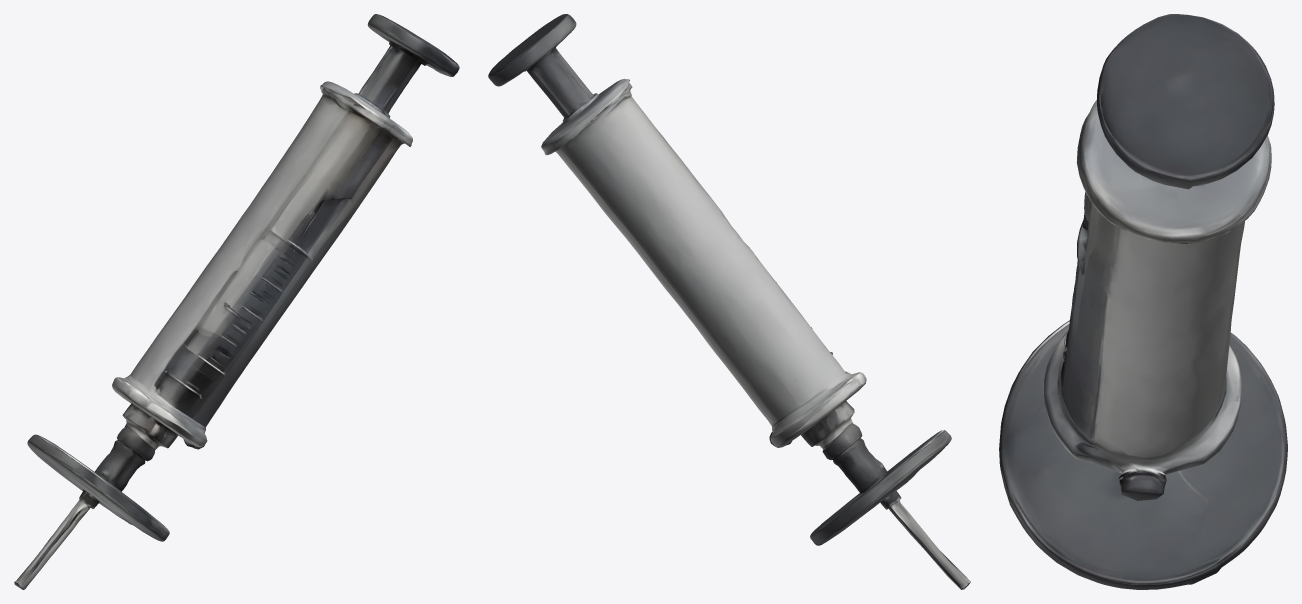
File: syringe.glb
The picture shows the model from 3 angles, left to right: view 1: azimuth 30°, elevation 25°; view 2: azimuth 150°, elevation 25°; view 3: azimuth 270°, elevation 25°; orthographic projection. The views are drawn at different scales.
Parts seen in each view (by area): view 1: syringe / mesh; view 2: syringe / mesh; view 3: syringe / mesh.
Part boxes in pixels (x1=…): syringe / mesh: x1=14, y1=14, x2=459, y2=589; syringe / mesh: x1=488, y1=14, x2=970, y2=589; syringe / mesh: x1=999, y1=14, x2=1287, y2=589.
Bounding box in the file's own units: 0.1996 × 0.2 × 0.0627.
Materials: 1 (1 with a texture image).
